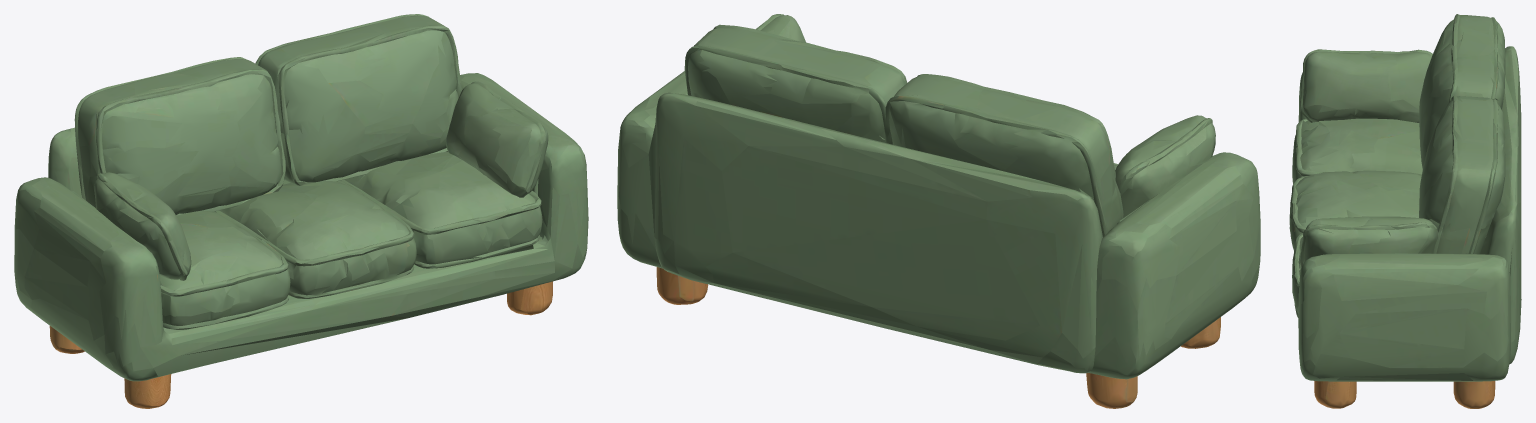
The model's file is zitbank.glb.
3 views of the same model, side by side, from view 1: azimuth 30°, elevation 25°; view 2: azimuth 150°, elevation 25°; view 3: azimuth 270°, elevation 25° (orthographic). The views are drawn at different scales.
Parts seen in each view (by area): view 1: Mesh_0; view 2: Mesh_0; view 3: Mesh_0.
Part boxes in pixels (x1,y1,x2,y2): Mesh_0: (14,14,588,408); Mesh_0: (617,14,1260,408); Mesh_0: (1289,14,1521,408).
Bounding box in the file's own units: 1.9 × 0.9329 × 0.854.
Materials: 1 (1 with a texture image).
